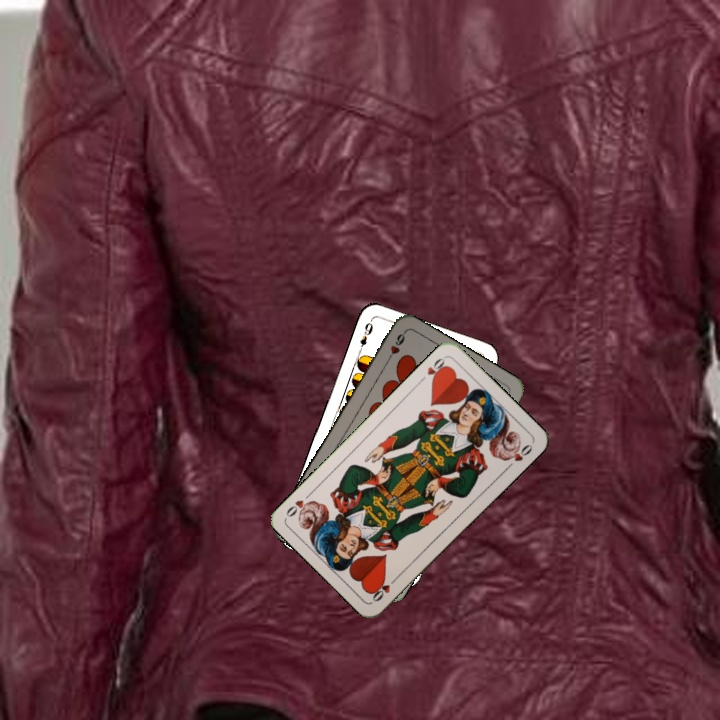E9: (354, 317, 376, 356)
H9: (382, 328, 408, 365)
HO: (415, 353, 450, 385), (368, 572, 401, 604)
